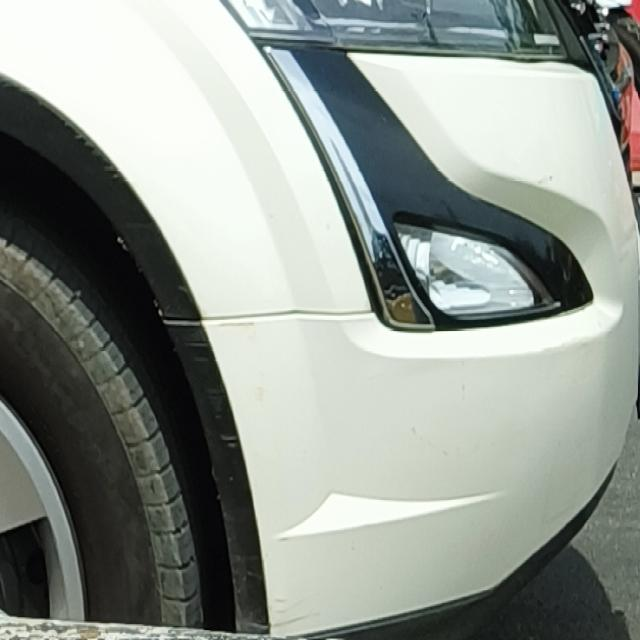scratch: (261, 570, 334, 639), (406, 414, 463, 461), (202, 315, 264, 338), (453, 362, 483, 407), (530, 164, 561, 197), (249, 382, 274, 412)
